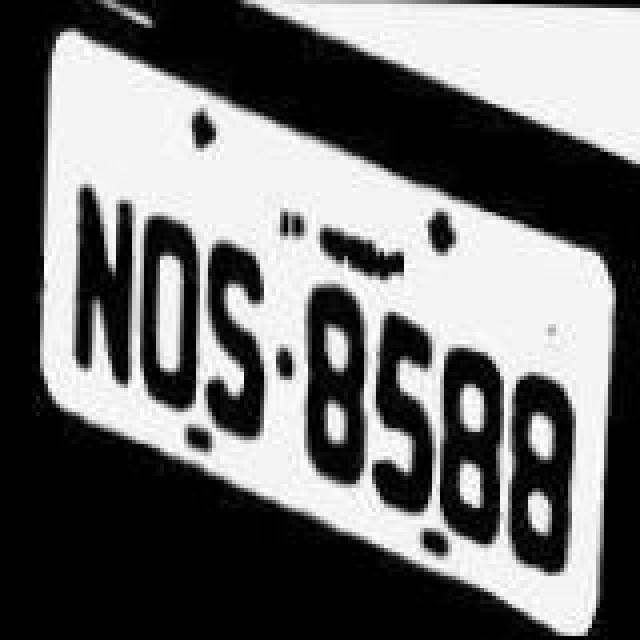5: (364, 298, 444, 522)
8: (294, 276, 374, 504), (502, 352, 574, 592), (430, 334, 506, 546)
N: (58, 158, 146, 402)
O: (128, 186, 208, 418)
S: (200, 228, 280, 436)
